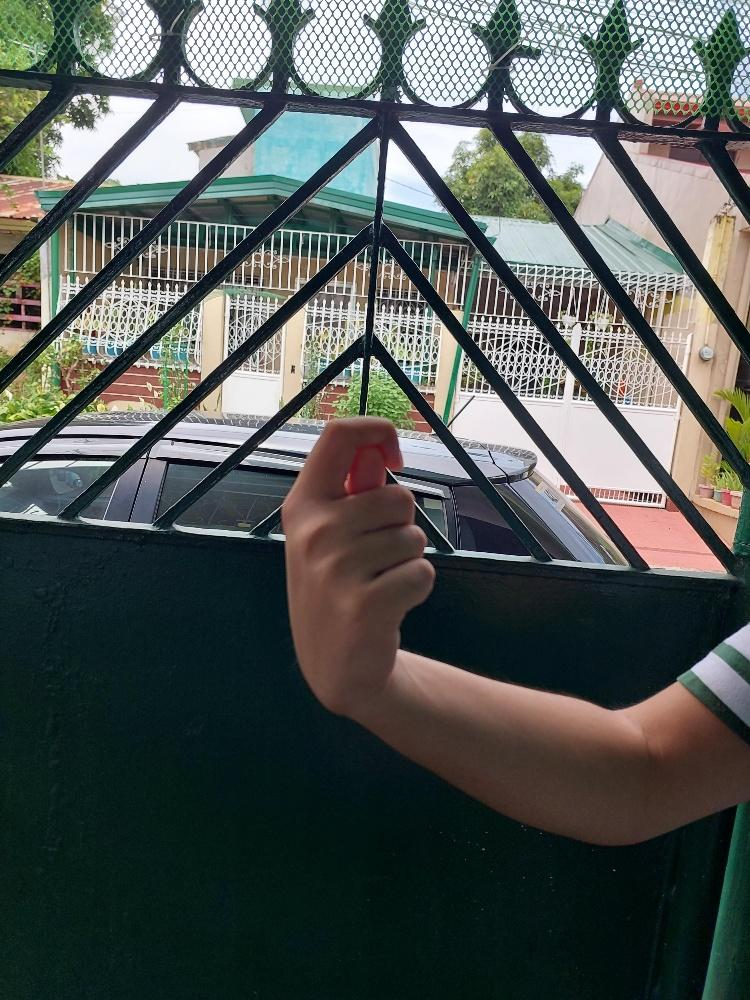t: (279, 408, 436, 717)
